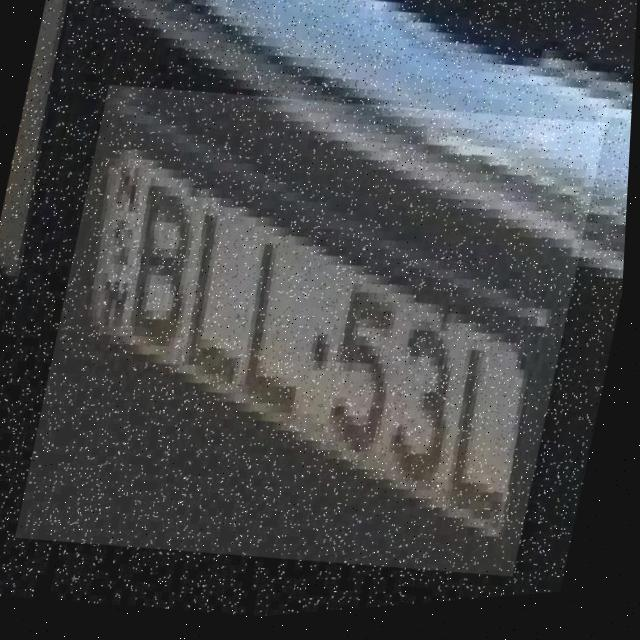LicensePlate: (18, 55, 612, 618)
